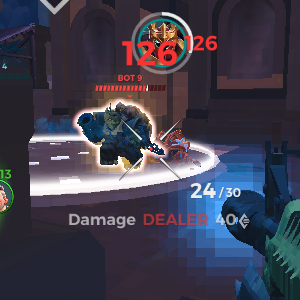model: (76, 97, 160, 172)
